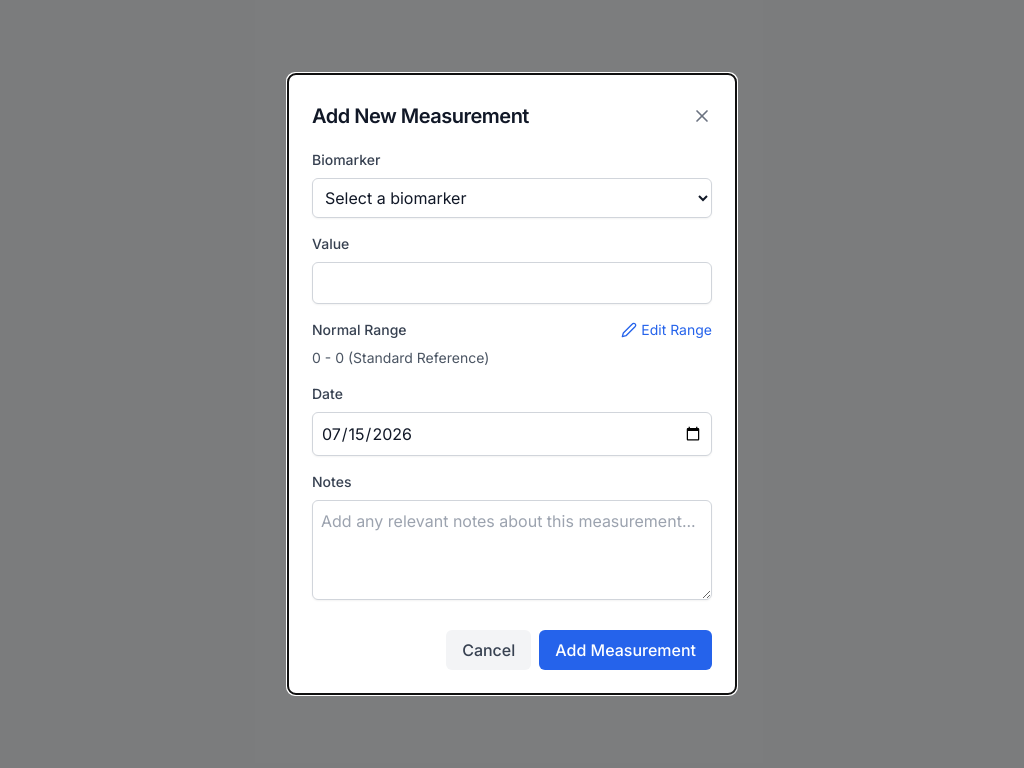
it: AddMeasurementModal › Biomarker Selection › should update normal range when biomarker is selected
Select "Glucose" in the dropdown at [512, 198], box top-left (312, 178), bottom-right (712, 218)
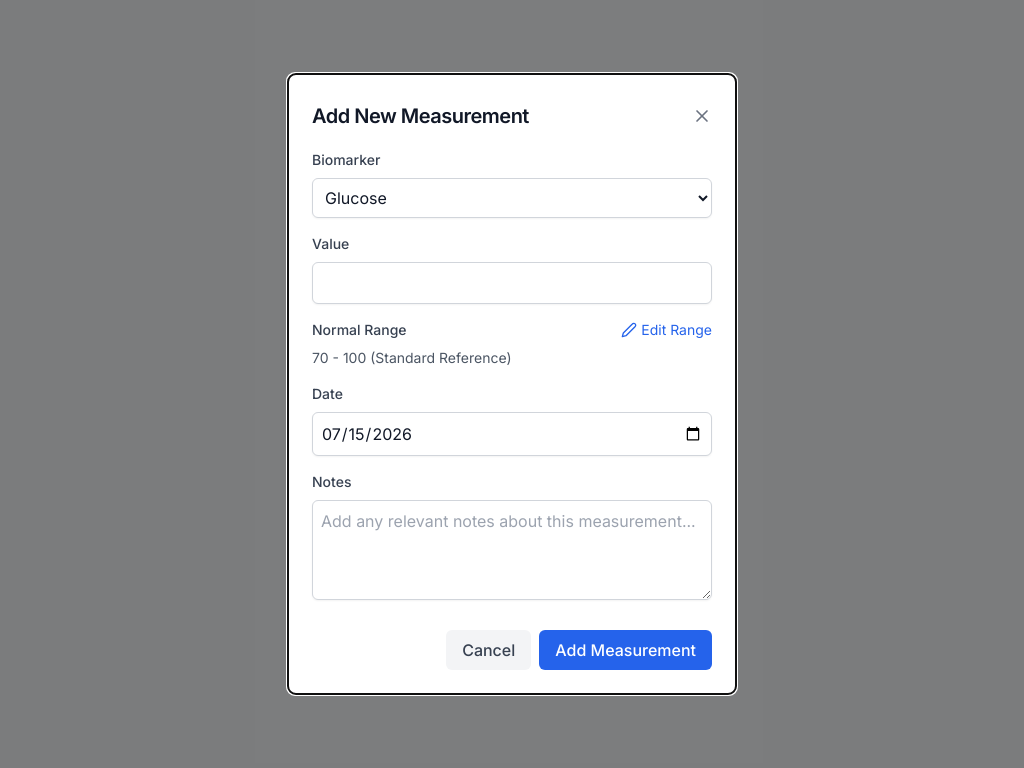
Check: the text "70 - 100 (Standard Reference)" is shown, box top-left (312, 349), bottom-right (512, 366)
